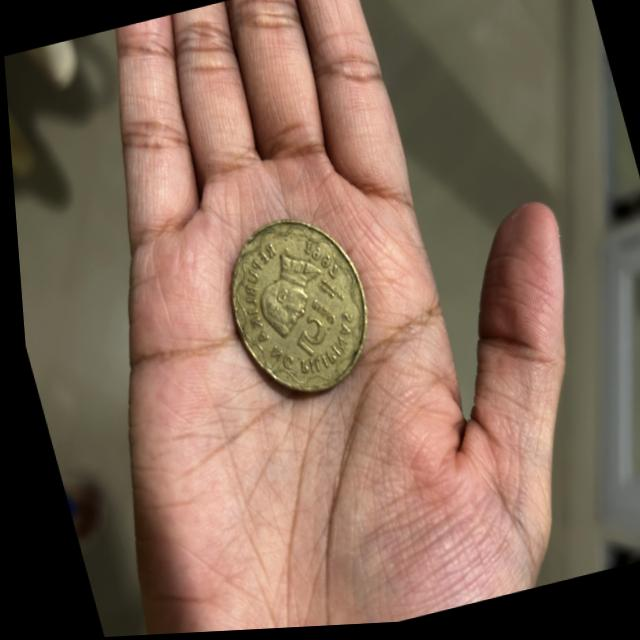5_Old_Front: (279, 290, 344, 367)
